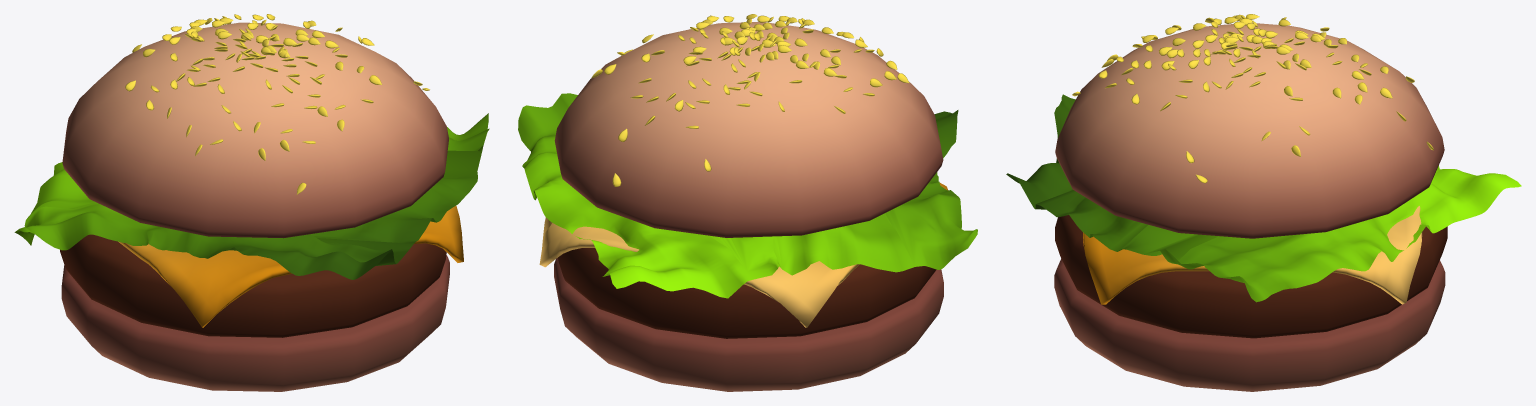
File: Hamburger.fbx
3 renders of one model, left to right at view 1: azimuth 30°, elevation 25°; view 2: azimuth 150°, elevation 25°; view 3: azimuth 270°, elevation 25°, orthographic.
Parts seen in each view (by area): view 1: bun_top.138; view 2: bun_top.138; view 3: bun_top.138.
Boxes of the visible parts, <box> form: bun_top.138: <box>14,14,489,391</box>; bun_top.138: <box>518,14,977,391</box>; bun_top.138: <box>1006,14,1521,391</box>.
Bounding box in the file's own units: 82.75 × 48.14 × 80.1.
